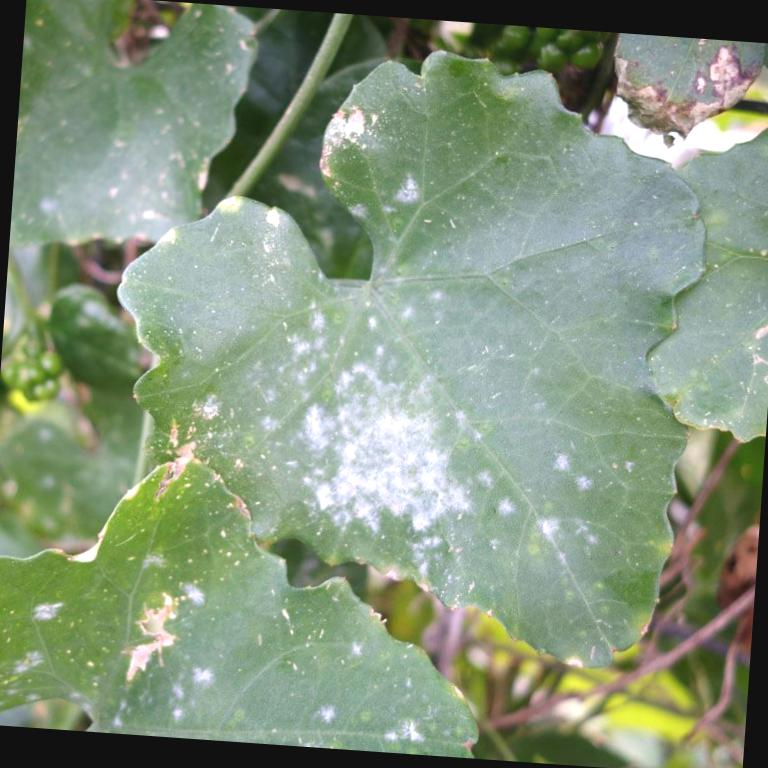powdery-mildew: (249, 325, 542, 545)
